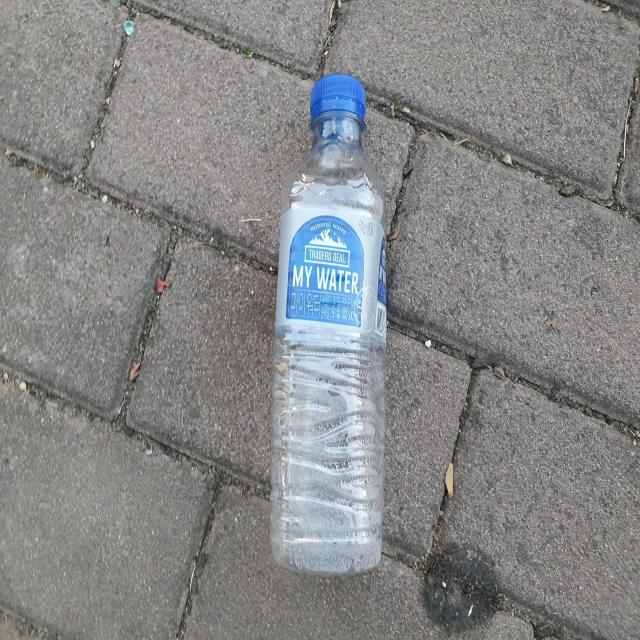plastic: (271, 73, 387, 576)
